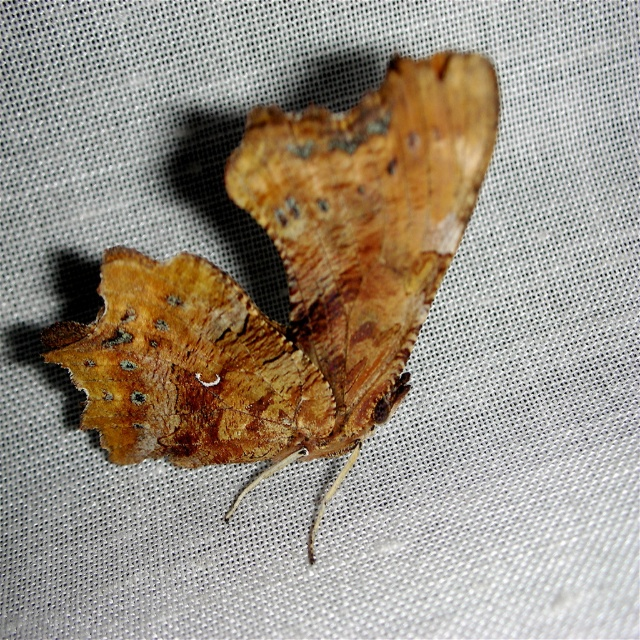Moths and butterflies: (38, 43, 501, 565)
